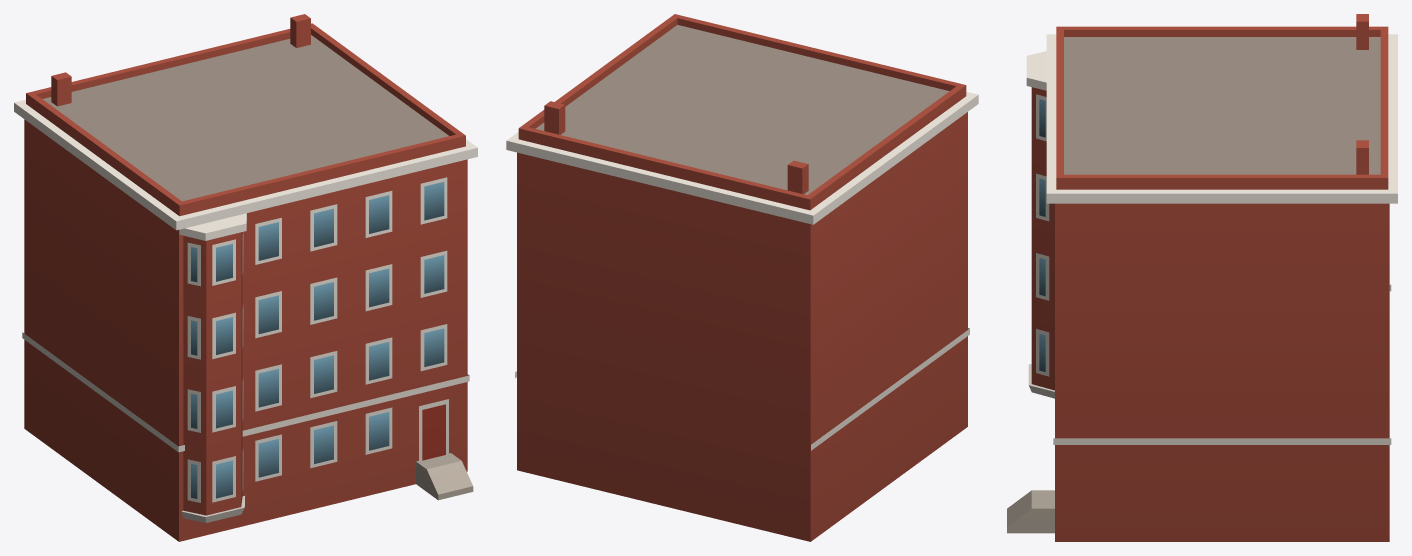
The model's file is winter_n2_far.glb.
The picture shows the model from 3 angles, left to right: view 1: azimuth 30°, elevation 25°; view 2: azimuth 150°, elevation 25°; view 3: azimuth 270°, elevation 25°; orthographic projection. The views are drawn at different scales.
Parts seen in each view (by area): view 1: winter_n2_far; view 2: winter_n2_far; view 3: winter_n2_far.
Part boxes in pixels (bbox=[...]): winter_n2_far: bbox=[14, 14, 477, 541]; winter_n2_far: bbox=[506, 14, 978, 541]; winter_n2_far: bbox=[1007, 14, 1397, 541].
Bounding box in the file's own units: 14.64 × 16.49 × 15.18.
Materials: 1 (1 with a texture image).
